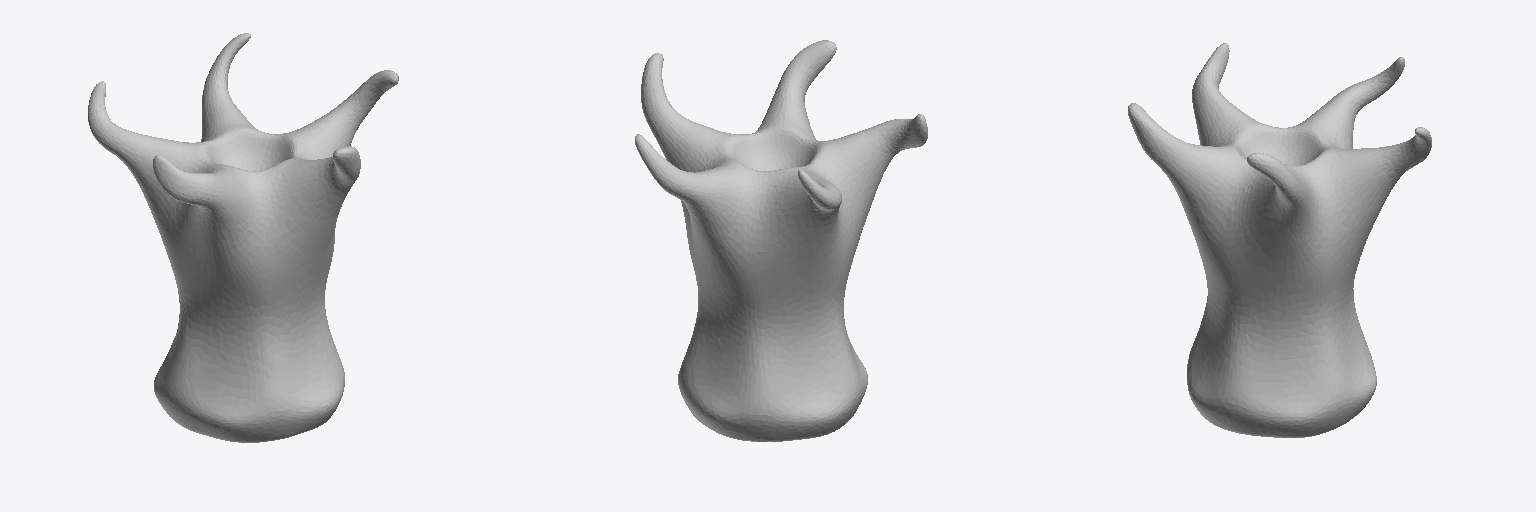
Rendered from eat-spiral.obj.
3 views of the same model, side by side, from view 1: azimuth 30°, elevation 25°; view 2: azimuth 150°, elevation 25°; view 3: azimuth 270°, elevation 25° (orthographic).
Visible parts, largest first — view 1: Quad_Sphere; view 2: Quad_Sphere; view 3: Quad_Sphere.
Boxes of the visible parts, x1=… form: Quad_Sphere: x1=88, y1=33, x2=398, y2=442; Quad_Sphere: x1=635, y1=40, x2=927, y2=441; Quad_Sphere: x1=1128, y1=43, x2=1431, y2=437.
Bounding box in the file's own units: 4.76 × 5.7 × 4.82.